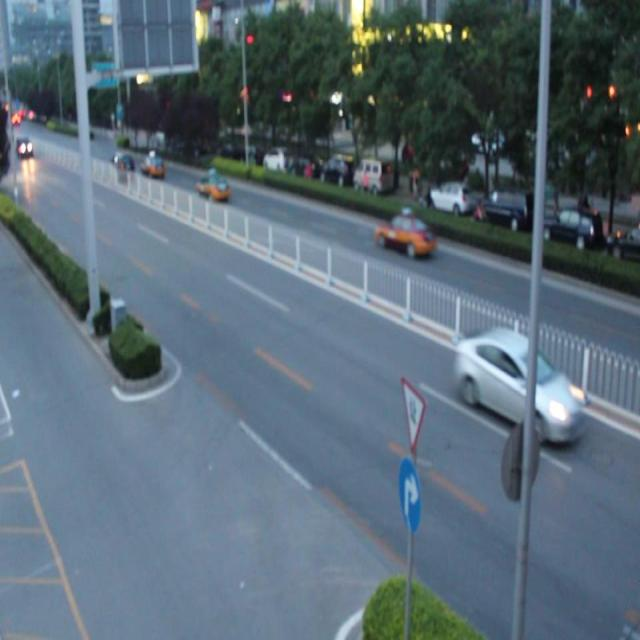car: (454, 329, 582, 444), (373, 216, 432, 253), (109, 153, 134, 179), (196, 176, 228, 196), (141, 155, 164, 177)
